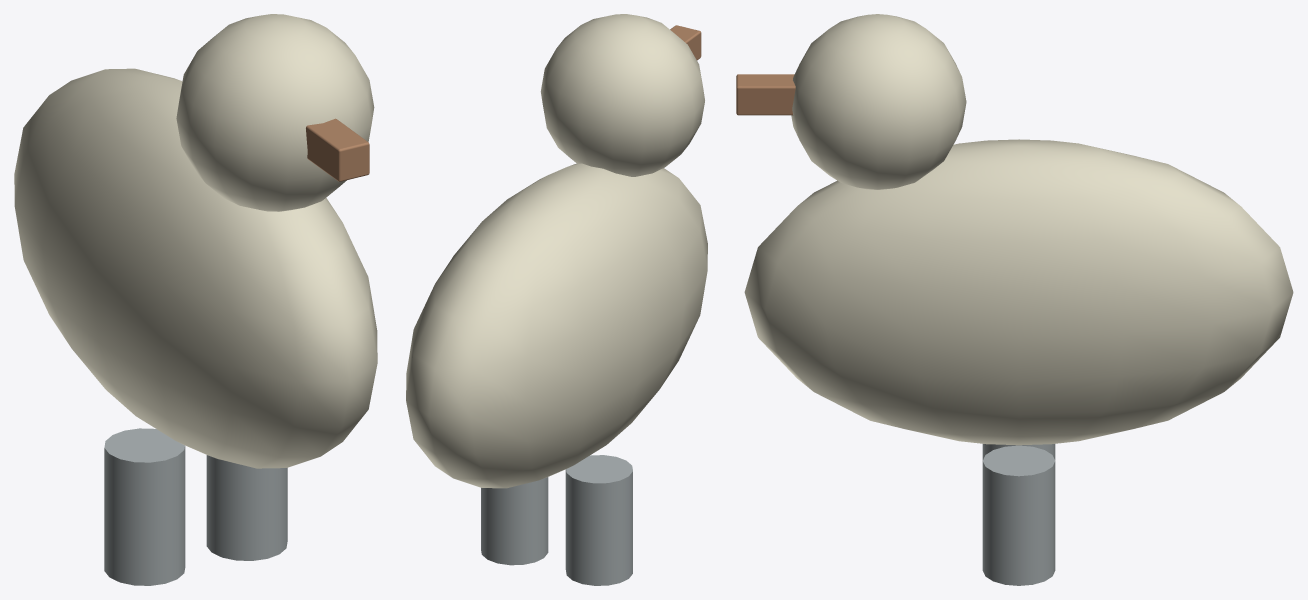
File: scavengers-loot-library-ornament-bird-3a515432__2655.glb
3 views of the same model, side by side, from view 1: azimuth 30°, elevation 25°; view 2: azimuth 150°, elevation 25°; view 3: azimuth 270°, elevation 25° (orthographic). The views are drawn at different scales.
Parts seen in each view (by area): view 1: ornament-bird; view 2: ornament-bird; view 3: ornament-bird.
Boxes of the visible parts, x1,y1,x2,y2 form: ornament-bird: (14,14,377,585); ornament-bird: (406,14,707,585); ornament-bird: (736,14,1293,585).
Bounding box in the file's own units: 0.052 × 0.144 × 0.138.
